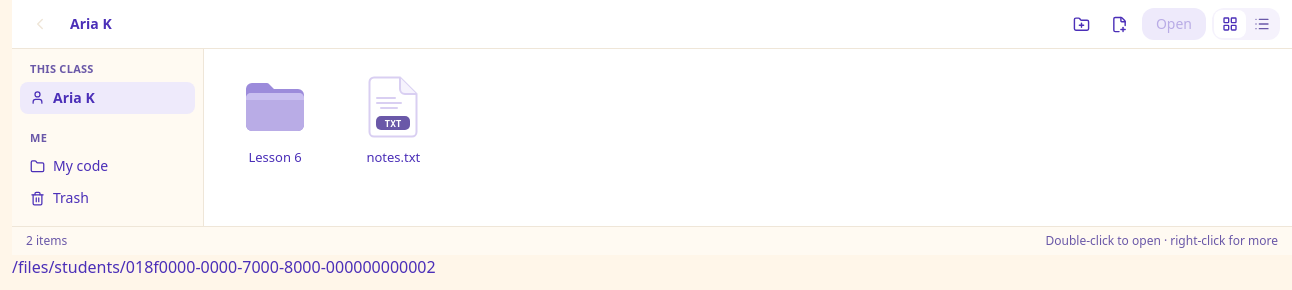
Test: the list view shows the same items, with their kind
The width and height of the screenshot is (1292, 290).
expect the button with aria-label "Lesson 6, folder" is shown: met, box 220,65 -> 330,171
Click the button named "List" at [1262, 24], box 1246,10 -> 1278,38
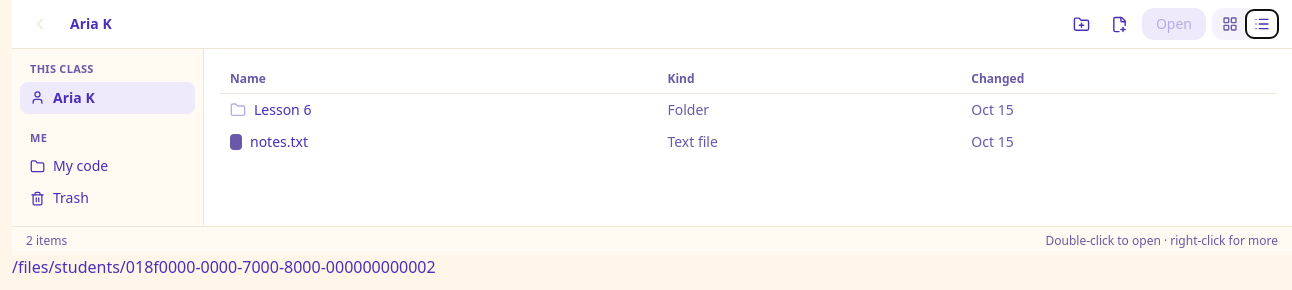
expect the table is shown: met, box 220,65 -> 1276,158
expect the text "Folder" is shown: met, box 657,94 -> 961,126
expect the text "Text file" is shown: met, box 657,126 -> 961,158
